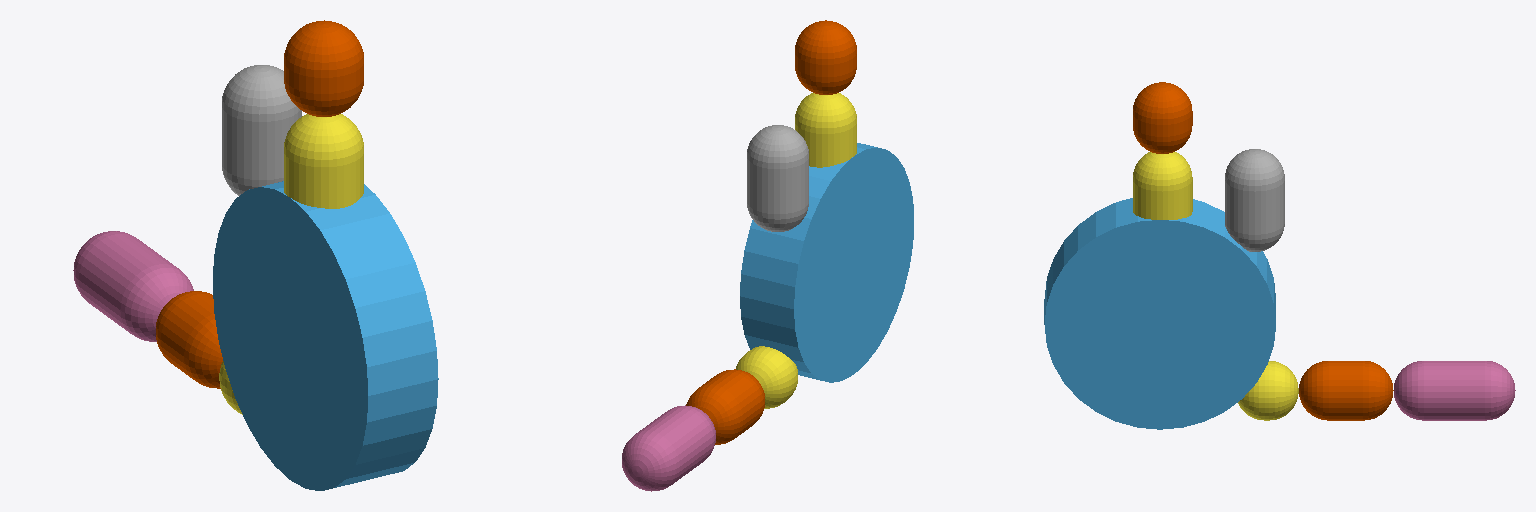
The robot description file, URDF, robot "DexterousHand":
<?xml version="1.0"?>
<robot name="DexterousHand">


    <link name="world"/>
    <joint name="world_to_palm" type="fixed">
        <parent link="world"/>
        <child link="palm"/>
        <origin xyz="0 0 0" rpy="0 0 0"/>
    </joint>
    <link name="palm">
        <inertial>
            <origin xyz="0 0 0.057" rpy="0 0 0"/>
            <mass value="0.30212892864"/>
            <inertia ixx="0.00049080844457568" ixy="0.0" ixz="0.0" iyy="0.00026746366246427523" iyz="0.0" izz="0.00026746366246427523"/>
        </inertial>
        <visual>
            <origin xyz="0 0 0.057" rpy="1.5708 0 1.5708"/>
            <geometry>
                <cylinder radius="0.057" length="0.0296"/>
            </geometry>
            <material name="default"/>
        </visual>
        <collision>
            <origin xyz="0 0 0.057" rpy="1.5708 0 1.5708"/>
            <geometry>
                <cylinder radius="0.057" length="0.0296"/>
            </geometry>
        </collision>
    </link>

    
    <joint name="thumb_joint1" type="revolute">
        <parent link="palm"/>
        <child link="thumb_base"/>
        <origin xyz="0.0029 0.0368 0.0157" rpy="-1.5708 -1.5708 0.0"/>
        <axis xyz="-1 0 0"/>
        <limit lower="-0.349" upper="2.094" effort="1.0" velocity="1.0"/>
    </joint>

    <link name="thumb_base"></link>

    <joint name="thumb_joint2" type="revolute">
        <parent link="thumb_base"/>
        <child link="thumb_proximal"/>
        <origin xyz="0.0 0.0 0.0" rpy="0.0 0.0 0.0"/>
        <axis xyz="0 0 1"/>
        <limit lower="-0.47" upper="2.443" effort="1.0" velocity="1.0"/>
    </joint>

    <link name="thumb_proximal">
        <inertial>
            <origin xyz="0 0 0.01565" rpy="0 0 0"/>
            <mass value="0.021538658803200002"/>
            <inertia ixx="2.9378910096388167e-06" ixy="0.0" ixz="0.0" 
            iyy="2.9378910096388167e-06" iyz="0.0" izz="2.358913912126464e-06"/>
        </inertial>
        <visual>
            <origin xyz="0 0 0.01565" rpy="0 0 0"/>
            <geometry>
                <cylinder radius="0.0148" length="0.0017000000000000001"/>
            </geometry>
            <material name="default"/>
        </visual>
        <visual>
            <origin xyz="0 0 0.0148" rpy="0 0 0"/>
            <geometry>
                <sphere radius="0.0148"/>
            </geometry>
            <material name="default"/>
        </visual>
        <visual>
            <origin xyz="0 0 0.0165" rpy="0 0 0"/>
            <geometry>
                <sphere radius="0.0148"/>
            </geometry>
            <material name="default"/>
        </visual>
        <collision>
            <origin xyz="0 0 0.01565" rpy="0 0 0"/>
            <geometry>
                <cylinder radius="0.0148" length="0.0017000000000000001"/>
            </geometry>
        </collision>
        <collision>
            <origin xyz="0 0 0.0148" rpy="0 0 0"/>
            <geometry>
                <sphere radius="0.0148"/>
            </geometry>
        </collision>
        <collision>
            <origin xyz="0 0 0.0165" rpy="0 0 0"/>
            <geometry>
                <sphere radius="0.0148"/>
            </geometry>
        </collision>
    </link>

    <joint name="thumb_joint3" type="revolute">
        <parent link="thumb_proximal"/>
        <child link="thumb_knuckle"/>
        <origin xyz="0.0 0.0 0.0313" rpy="0.0 0.0 0.0"/>
        <axis xyz="1 0 0"/>
        <limit lower="0.0" upper="0.0" effort="1.0" velocity="1.0"/>
    </joint>

    <link name="thumb_knuckle"></link>

    <joint name="thumb_joint4" type="revolute">
        <parent link="thumb_knuckle"/>
        <child link="thumb_middle"/>
        <origin xyz="0 0 0" rpy="0 0 0"/> 
        <axis xyz="0 1 0"/>
        <limit lower="-1.2" upper="1.9" effort="1.0" velocity="1.0"/>
    </joint>

    <link name="thumb_middle">
        <inertial>
            <origin xyz="0 0 0.0233" rpy="0 0 0"/>
            <mass value="0.032067140582400004"/>
            <inertia ixx="7.5589732685519385e-06" ixy="0.0" ixz="0.0" 
            iyy="7.5589732685519385e-06" iyz="0.0" izz="3.5119932365844485e-06"/>
        </inertial>
        <visual>
            <origin xyz="0 0 0.0233" rpy="0 0 0"/>
            <geometry>
                <cylinder radius="0.0148" length="0.017"/>
            </geometry>
            <material name="default"/>
        </visual>
        <visual>
            <origin xyz="0 0 0.0148" rpy="0 0 0"/>
            <geometry>
                <sphere radius="0.0148"/>
            </geometry>
            <material name="default"/>
        </visual>
        <visual>
            <origin xyz="0 0 0.0318" rpy="0 0 0"/>
            <geometry>
                <sphere radius="0.0148"/>
            </geometry>
            <material name="default"/>
        </visual>
        <collision>
            <origin xyz="0 0 0.0233" rpy="0 0 0"/>
            <geometry>
                <cylinder radius="0.0148" length="0.017"/>
            </geometry>
        </collision>
        <collision>
            <origin xyz="0 0 0.0148" rpy="0 0 0"/>
            <geometry>
                <sphere radius="0.0148"/>
            </geometry>
        </collision>
        <collision>
            <origin xyz="0 0 0.0318" rpy="0 0 0"/>
            <geometry>
                <sphere radius="0.0148"/>
            </geometry>
        </collision>
    </link>

    <joint name="thumb_joint5" type="revolute">
        <parent link="thumb_middle"/>
        <child link="thumb_distal"/>
        <origin xyz="0 0 0.0466" rpy="0 0 0"/> 
        <axis xyz="0 1 0"/>
        <limit lower="-1.34" upper="1.88" effort="1.0" velocity="1.0"/>
    </joint>

    <link name="thumb_distal">
        <inertial>
            <origin xyz="0 0 0.03" rpy="0 0 0"/>
            <mass value="0.04128816384"/>
            <inertia ixx="1.46473890038784e-05" ixy="0.0" ixz="0.0" 
            iyy="1.46473890038784e-05" iyz="0.0" izz="4.521879703756801e-06"/>
        </inertial>
        <visual>
            <origin xyz="0 0 0.03" rpy="0 0 0"/>
            <geometry>
                <cylinder radius="0.0148" length="0.030399999999999996"/>
            </geometry>
            <material name="default"/>
        </visual>
        <visual>
            <origin xyz="0 0 0.0148" rpy="0 0 0"/>
            <geometry>
                <sphere radius="0.0148"/>
            </geometry>
            <material name="default"/>
        </visual>
        <visual>
            <origin xyz="0 0 0.0452" rpy="0 0 0"/>
            <geometry>
                <sphere radius="0.0148"/>
            </geometry>
            <material name="default"/>
        </visual>
        <collision>
            <origin xyz="0 0 0.03" rpy="0 0 0"/>
            <geometry>
                <cylinder radius="0.0148" length="0.030399999999999996"/>
            </geometry>
        </collision>
        <collision>
            <origin xyz="0 0 0.0148" rpy="0 0 0"/>
            <geometry>
                <sphere radius="0.0148"/>
            </geometry>
        </collision>
        <collision>
            <origin xyz="0 0 0.0452" rpy="0 0 0"/>
            <geometry>
                <sphere radius="0.0148"/>
            </geometry>
        </collision>
    </link>

    
    <joint name="index_joint1" type="revolute">
        <parent link="palm"/>
        <child link="index_proximal"/>
        <origin xyz="0.0 0.0465 0.091" rpy="0.0 0.0 0.0"/>
        <axis xyz="0 1 0"/>
        <limit lower="-0.314" upper="2.23" effort="1.0" velocity="1.0"/>
    </joint>

    <link name="index_proximal">
        <inertial>
            <origin xyz="0 0 0.02655" rpy="0 0 0"/>
            <mass value="0.036540024998400006"/>
            <inertia ixx="1.058665009272394e-05" ixy="0.0" ixz="0.0" 
            iyy="1.058665009272394e-05" iyz="0.0" izz="4.001863537824769e-06"/>
        </inertial>
        <visual>
            <origin xyz="0 0 0.02655" rpy="0 0 0"/>
            <geometry>
                <cylinder radius="0.0148" length="0.0235"/>
            </geometry>
            <material name="default"/>
        </visual>
        <visual>
            <origin xyz="0 0 0.0148" rpy="0 0 0"/>
            <geometry>
                <sphere radius="0.0148"/>
            </geometry>
            <material name="default"/>
        </visual>
        <visual>
            <origin xyz="0 0 0.0383" rpy="0 0 0"/>
            <geometry>
                <sphere radius="0.0148"/>
            </geometry>
            <material name="default"/>
        </visual>
        <collision>
            <origin xyz="0 0 0.02655" rpy="0 0 0"/>
            <geometry>
                <cylinder radius="0.0148" length="0.0235"/>
            </geometry>
        </collision>
        <collision>
            <origin xyz="0 0 0.0148" rpy="0 0 0"/>
            <geometry>
                <sphere radius="0.0148"/>
            </geometry>
        </collision>
        <collision>
            <origin xyz="0 0 0.0383" rpy="0 0 0"/>
            <geometry>
                <sphere radius="0.0148"/>
            </geometry>
        </collision>
    </link>

    <joint name="index_joint2" type="revolute">
        <parent link="index_proximal"/>
        <child link="index_dummy"/>
        <origin xyz="0.0 0.0 0.038" rpy="0.0 0.0 0.0"/>
        <axis xyz="0 1 0"/>
        <limit lower="0.0" upper="0.0" effort="1.0" velocity="1.0"/>
    </joint>

    <link name="index_dummy"></link>

    <joint name="index_joint3" type="revolute">
        <parent link="index_dummy"/>
        <child link="index_middle"/>
        <origin xyz="0 0 0.015100000000000002" rpy="0 0 0"/>
        <axis xyz="0 1 0"/>
        <limit lower="0.0" upper="0.0" effort="1.0" velocity="1.0"/>
    </joint>

    <link name="index_middle">
    </link>

    <joint name="index_joint4" type="revolute">
        <parent link="index_middle"/>
        <child link="index_distal"/>
        <origin xyz="0 0 0" rpy="0 0 0"/> 
        <axis xyz="0 1 0"/>
        <limit lower="0.0" upper="0.0" effort="1.0" velocity="1.0"/>
    </joint>

    <link name="index_distal">
    </link>

    
    <joint name="middle_joint1" type="revolute">
        <parent link="palm"/>
        <child link="middle_proximal"/>
        <origin xyz="0.0 0.0011 0.091" rpy="0.0 0.0 0.0"/>
        <axis xyz="0 1 0"/>
        <limit lower="-0.314" upper="2.23" effort="1.0" velocity="1.0"/>
    </joint>

    <link name="middle_proximal">
        <inertial>
            <origin xyz="0 0 0.02655" rpy="0 0 0"/>
            <mass value="0.036540024998400006"/>
            <inertia ixx="1.058665009272394e-05" ixy="0.0" ixz="0.0" 
            iyy="1.058665009272394e-05" iyz="0.0" izz="4.001863537824769e-06"/>
        </inertial>
        <visual>
            <origin xyz="0 0 0.02655" rpy="0 0 0"/>
            <geometry>
                <cylinder radius="0.0148" length="0.0235"/>
            </geometry>
            <material name="default"/>
        </visual>
        <visual>
            <origin xyz="0 0 0.0148" rpy="0 0 0"/>
            <geometry>
                <sphere radius="0.0148"/>
            </geometry>
            <material name="default"/>
        </visual>
        <visual>
            <origin xyz="0 0 0.0383" rpy="0 0 0"/>
            <geometry>
                <sphere radius="0.0148"/>
            </geometry>
            <material name="default"/>
        </visual>
        <collision>
            <origin xyz="0 0 0.02655" rpy="0 0 0"/>
            <geometry>
                <cylinder radius="0.0148" length="0.0235"/>
            </geometry>
        </collision>
        <collision>
            <origin xyz="0 0 0.0148" rpy="0 0 0"/>
            <geometry>
                <sphere radius="0.0148"/>
            </geometry>
        </collision>
        <collision>
            <origin xyz="0 0 0.0383" rpy="0 0 0"/>
            <geometry>
                <sphere radius="0.0148"/>
            </geometry>
        </collision>
    </link>

    <joint name="middle_joint2" type="revolute">
        <parent link="middle_proximal"/>
        <child link="middle_dummy"/>
        <origin xyz="0.0 0.0 0.038" rpy="0.0 0.0 0.0"/>
        <axis xyz="1 0 0"/>
        <limit lower="-1.047" upper="1.047" effort="1.0" velocity="1.0"/>
    </joint>

    <link name="middle_dummy"></link>

    <joint name="middle_joint3" type="revolute">
        <parent link="middle_dummy"/>
        <child link="middle_middle"/>
        <origin xyz="0 0 0.015100000000000002" rpy="0 0 0"/>
        <axis xyz="0 1 0"/>
        <limit lower="-0.506" upper="1.885" effort="1.0" velocity="1.0"/>
    </joint>

    <link name="middle_middle">
        <inertial>
            <origin xyz="0 0 0.01805" rpy="0 0 0"/>
            <mass value="0.0248417119104"/>
            <inertia ixx="4.058162759109537e-06" ixy="0.0" ixz="0.0" 
            iyy="4.058162759109537e-06" iyz="0.0" izz="2.7206642884270085e-06"/>
        </inertial>
        <visual>
            <origin xyz="0 0 0.01805" rpy="0 0 0"/>
            <geometry>
                <cylinder radius="0.0148" length="0.006499999999999999"/>
            </geometry>
            <material name="default"/>
        </visual>
        <visual>
            <origin xyz="0 0 0.0148" rpy="0 0 0"/>
            <geometry>
                <sphere radius="0.0148"/>
            </geometry>
            <material name="default"/>
        </visual>
        <visual>
            <origin xyz="0 0 0.0213" rpy="0 0 0"/>
            <geometry>
                <sphere radius="0.0148"/>
            </geometry>
            <material name="default"/>
        </visual>
        <collision>
            <origin xyz="0 0 0.01805" rpy="0 0 0"/>
            <geometry>
                <cylinder radius="0.0148" length="0.006499999999999999"/>
            </geometry>
        </collision>
        <collision>
            <origin xyz="0 0 0.0148" rpy="0 0 0"/>
            <geometry>
                <sphere radius="0.0148"/>
            </geometry>
        </collision>
        <collision>
            <origin xyz="0 0 0.0213" rpy="0 0 0"/>
            <geometry>
                <sphere radius="0.0148"/>
            </geometry>
        </collision>
    </link>

    <joint name="middle_joint4" type="revolute">
        <parent link="middle_middle"/>
        <child link="middle_distal"/>
        <origin xyz="0 0 0.0361" rpy="0 0 0"/> 
        <axis xyz="0 1 0"/>
        <limit lower="0.0" upper="0.0" effort="1.0" velocity="1.0"/>
    </joint>

    <link name="middle_distal">
    </link>

    
    <joint name="ring_joint1" type="revolute">
        <parent link="palm"/>
        <child link="ring_proximal"/>
        <origin xyz="0.0 0.0 0.0" rpy="0.0 0.0 0.0"/>
        <axis xyz="1 0 0"/>
        <limit lower="0.0" upper="0.0" effort="1.0" velocity="1.0"/>
    </joint>

    <link name="ring_proximal">
    </link>

    <joint name="ring_joint2" type="revolute">
        <parent link="ring_proximal"/>
        <child link="ring_dummy"/>
        <origin xyz="0.0 0.0 0.0" rpy="0.0 0.0 0.0"/>
        <axis xyz="0 1 0"/>
        <limit lower="0.0" upper="0.0" effort="1.0" velocity="1.0"/>
    </joint>

    <link name="ring_dummy"></link>

    <joint name="ring_joint3" type="revolute">
        <parent link="ring_dummy"/>
        <child link="ring_middle"/>
        <origin xyz="0 0 0" rpy="0 0 0"/>
        <axis xyz="0 1 0"/>
        <limit lower="0.0" upper="0.0" effort="1.0" velocity="1.0"/>
    </joint>

    <link name="ring_middle">
    </link>

    <joint name="ring_joint4" type="revolute">
        <parent link="ring_middle"/>
        <child link="ring_distal"/>
        <origin xyz="0 0 0" rpy="0 0 0"/> 
        <axis xyz="0 1 0"/>
        <limit lower="0.0" upper="0.0" effort="1.0" velocity="1.0"/>
    </joint>

    <link name="ring_distal">
    </link>

    
    <joint name="little_joint0" type="revolute">
        <parent link="palm"/>
        <child link="little_base"/>
        <origin xyz="0.0 0.0 0.0" rpy="0.0 0.0 0.0"/>
        <axis xyz="0 1 0"/>
        <limit lower="0.0" upper="0.0" effort="1.0" velocity="1.0"/>
    </joint>

    <link name="little_base"></link>

    <joint name="little_joint1" type="revolute">
        <parent link="little_base"/>
        <child link="little_proximal"/>
        <origin xyz="0.0 0.0 0.0" rpy="-0.0 -0.0 -0.0"/>
        <axis xyz="1 0 0"/>
        <limit lower="0.0" upper="0.0" effort="1.0" velocity="1.0"/>
    </joint>

    <link name="little_proximal">
    </link>

    <joint name="little_joint2" type="revolute">
        <parent link="little_proximal"/>
        <child link="little_dummy"/>
        <origin xyz="0.0 0.0 0.0" rpy="0.0 0.0 0.0"/>
        <axis xyz="0 1 0"/>
        <limit lower="0.0" upper="0.0" effort="1.0" velocity="1.0"/>
    </joint>

    <link name="little_dummy"></link>

    <joint name="little_joint3" type="revolute">
        <parent link="little_dummy"/>
        <child link="little_middle"/>
        <origin xyz="0 0 0" rpy="0 0 0"/>
        <axis xyz="0 1 0"/>
        <limit lower="0.0" upper="0.0" effort="1.0" velocity="1.0"/>
    </joint>

    <link name="little_middle">
    </link>

    <joint name="little_joint4" type="revolute">
        <parent link="little_middle"/>
        <child link="little_distal"/>
        <origin xyz="0 0 0" rpy="0 0 0"/>
        <axis xyz="0 1 0"/>
        <limit lower="0.0" upper="0.0" effort="1.0" velocity="1.0"/>
    </joint>

    <link name="little_distal">
    </link>

</robot>

--- Render facts (derived) ---
The picture shows the robot from 3 angles, left to right: view 1: azimuth 30°, elevation 25°; view 2: azimuth 150°, elevation 25°; view 3: azimuth 270°, elevation 25°; orthographic projection.
Model DexterousHand with 24 links and 23 joints (22 revolute, 1 fixed), rooted at world, posed every joint at zero.
Visible links, largest first — view 1: palm, thumb_distal, index_proximal, middle_proximal, middle_middle, thumb_middle; view 2: palm, index_proximal, thumb_distal, middle_middle, middle_proximal, thumb_middle, thumb_proximal; view 3: palm, thumb_distal, index_proximal, thumb_middle, middle_proximal, middle_middle, thumb_proximal.
Link boxes in pixels (left/top/right/bottom): palm: left=213, top=181, right=438, bottom=490; thumb_distal: left=73, top=231, right=193, bottom=341; index_proximal: left=222, top=65, right=301, bottom=195; middle_proximal: left=284, top=114, right=363, bottom=208; middle_middle: left=284, top=20, right=363, bottom=116; thumb_middle: left=156, top=291, right=222, bottom=388; palm: left=740, top=143, right=913, bottom=382; index_proximal: left=747, top=125, right=808, bottom=231; thumb_distal: left=622, top=405, right=715, bottom=491; middle_middle: left=795, top=20, right=856, bottom=94; middle_proximal: left=795, top=93, right=856, bottom=167; thumb_middle: left=686, top=369, right=764, bottom=444; thumb_proximal: left=736, top=346, right=797, bottom=408; palm: left=1044, top=198, right=1275, bottom=429; thumb_distal: left=1394, top=361, right=1515, bottom=420; index_proximal: left=1225, top=149, right=1284, bottom=251; thumb_middle: left=1299, top=361, right=1393, bottom=420; middle_proximal: left=1133, top=152, right=1192, bottom=219; middle_middle: left=1133, top=82, right=1192, bottom=153; thumb_proximal: left=1238, top=361, right=1298, bottom=420.
Bounding box of the posed robot: 0.0325 × 0.2317 × 0.1802 m (x, y, z).
Geometry: primitives only (box / cylinder / sphere), no mesh files.
